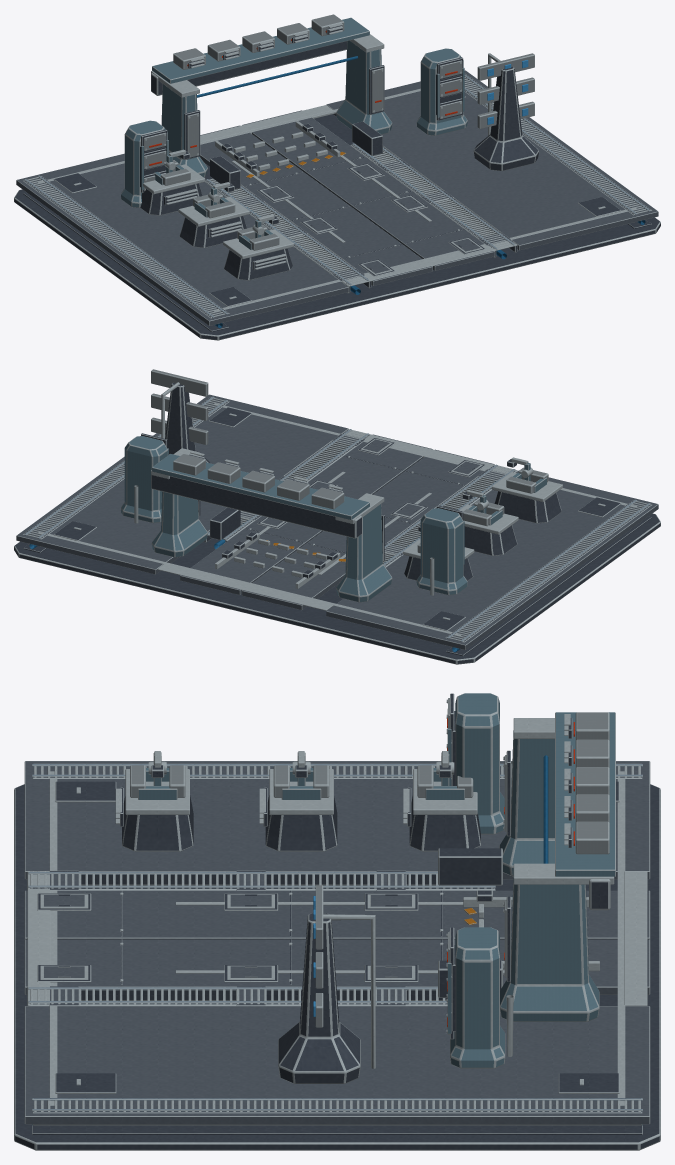
The model's file is RelayYard.fbx.
The picture shows the model from 3 angles, top to bottom: view 1: azimuth 30°, elevation 25°; view 2: azimuth 150°, elevation 25°; view 3: azimuth 270°, elevation 25°; orthographic projection. The views are drawn at different scales.
Visible parts, largest first — view 1: CH_RelayYard_refined_floor_1_0, CH_RelayYard_refined_floor_-2_0, CH_RelayYard_foundation_0_0, CH_RelayYard_refined_floor_0_0, CH_RelayYard_refined_floor_-1_0, CH_RelayYard_deployment_dock_0_1, CH_RelayYard_communications_1_-1, CH_RelayYard_deployment_dock_-1_1, CH_RelayYard_floor_-2_0, CH_RelayYard_deployment_dock_0_0, CH_RelayYard_refined_floor_0_-1, CH_RelayYard_deployment_dock_-1_0 (+22 smaller); view 2: CH_RelayYard_refined_floor_-2_0, CH_RelayYard_refined_floor_1_0, CH_RelayYard_foundation_0_0, CH_RelayYard_deployment_dock_0_1, CH_RelayYard_refined_floor_-1_0, CH_RelayYard_refined_floor_0_0, CH_RelayYard_deployment_dock_-1_1, CH_RelayYard_deployment_dock_0_0, CH_RelayYard_deployment_dock_-1_0, CH_RelayYard_communications_1_-1, CH_RelayYard_floor_-2_0, CH_RelayYard_assembly_line_-1_-2 (+18 smaller); view 3: CH_RelayYard_refined_floor_1_0, CH_RelayYard_refined_floor_-2_0, CH_RelayYard_deployment_dock_0_1, CH_RelayYard_refined_floor_-1_0, CH_RelayYard_foundation_0_0, CH_RelayYard_refined_floor_0_0, CH_RelayYard_floor_1_0, CH_RelayYard_deployment_dock_-1_1, CH_RelayYard_communications_1_-1, CH_RelayYard_deployment_dock_-1_0, CH_RelayYard_refined_floor_-1_-1, CH_RelayYard_deployment_dock_0_0 (+22 smaller).
Boxes of the visible parts, x1,y1,x2,y2 form: CH_RelayYard_refined_floor_1_0: (326,70,658,250); CH_RelayYard_refined_floor_-2_0: (16,153,348,325); CH_RelayYard_foundation_0_0: (14,114,660,340); CH_RelayYard_refined_floor_0_0: (242,110,494,270); CH_RelayYard_refined_floor_-1_0: (199,125,432,285); CH_RelayYard_deployment_dock_0_1: (151,14,392,157); CH_RelayYard_communications_1_-1: (473,53,538,170); CH_RelayYard_deployment_dock_-1_1: (151,39,259,177); CH_RelayYard_floor_-2_0: (23,175,229,331); CH_RelayYard_deployment_dock_0_0: (352,48,467,155); CH_RelayYard_refined_floor_0_-1: (350,143,517,259); CH_RelayYard_deployment_dock_-1_0: (121,120,240,207); CH_RelayYard_refined_floor_-2_0: (326,470,658,649); CH_RelayYard_refined_floor_1_0: (16,394,348,574); CH_RelayYard_foundation_0_0: (14,444,660,664); CH_RelayYard_deployment_dock_0_1: (134,448,369,569); CH_RelayYard_refined_floor_-1_0: (242,449,494,610); CH_RelayYard_refined_floor_0_0: (180,434,432,594); CH_RelayYard_deployment_dock_-1_1: (277,479,434,602); CH_RelayYard_deployment_dock_0_0: (121,436,240,540); CH_RelayYard_deployment_dock_-1_0: (416,508,467,595); CH_RelayYard_communications_1_-1: (151,369,209,463); CH_RelayYard_floor_-2_0: (445,499,651,655); CH_RelayYard_assembly_line_-1_-2: (491,467,562,523); CH_RelayYard_refined_floor_1_0: (24,1006,650,1124); CH_RelayYard_refined_floor_-2_0: (24,761,650,879); CH_RelayYard_deployment_dock_0_1: (500,712,615,1056); CH_RelayYard_refined_floor_-1_0: (24,870,650,939); CH_RelayYard_foundation_0_0: (14,784,660,1150); CH_RelayYard_refined_floor_0_0: (24,939,650,1006); CH_RelayYard_floor_1_0: (32,1098,642,1134); CH_RelayYard_deployment_dock_-1_1: (463,712,609,907); CH_RelayYard_communications_1_-1: (278,885,360,1083); CH_RelayYard_deployment_dock_-1_0: (438,693,504,885); CH_RelayYard_refined_floor_-1_-1: (28,870,495,936); CH_RelayYard_deployment_dock_0_0: (438,927,505,1068).
Size of the model in its own units: 24 by 5.99 by 18.
